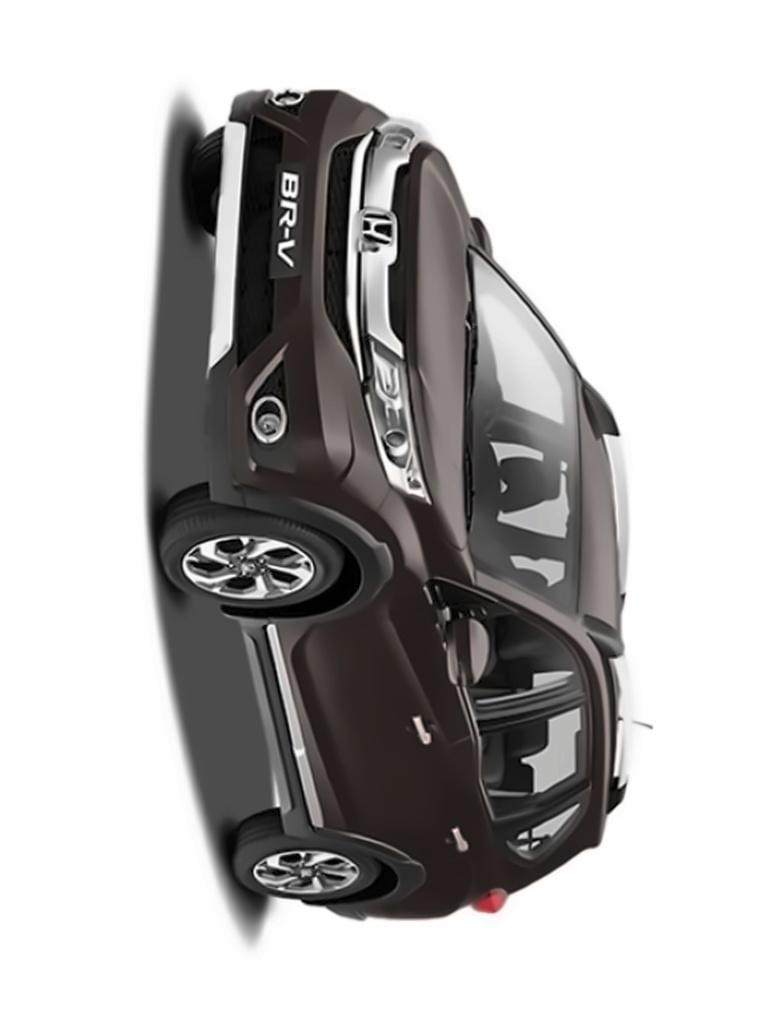Car hood: (412, 140, 476, 551)
Fender - -F-L-: (240, 480, 481, 627)
Fender - -R-L-: (350, 864, 507, 910)
Front bumper: (205, 82, 378, 556)
Headlight - -L-: (354, 330, 439, 510)
Headlight - -R-: (369, 107, 439, 164)
Passenger-s door - -F-L-: (283, 626, 596, 753)
Passenger-s door - -R-L-: (286, 727, 610, 864)
Rear bumper: (272, 883, 425, 945)
Rear light - -L-: (459, 875, 522, 921)
Side bumper - -L-: (222, 587, 326, 848)
Side mirror - -L-: (424, 612, 499, 695)
Side mirror - -R-: (465, 202, 498, 270)
